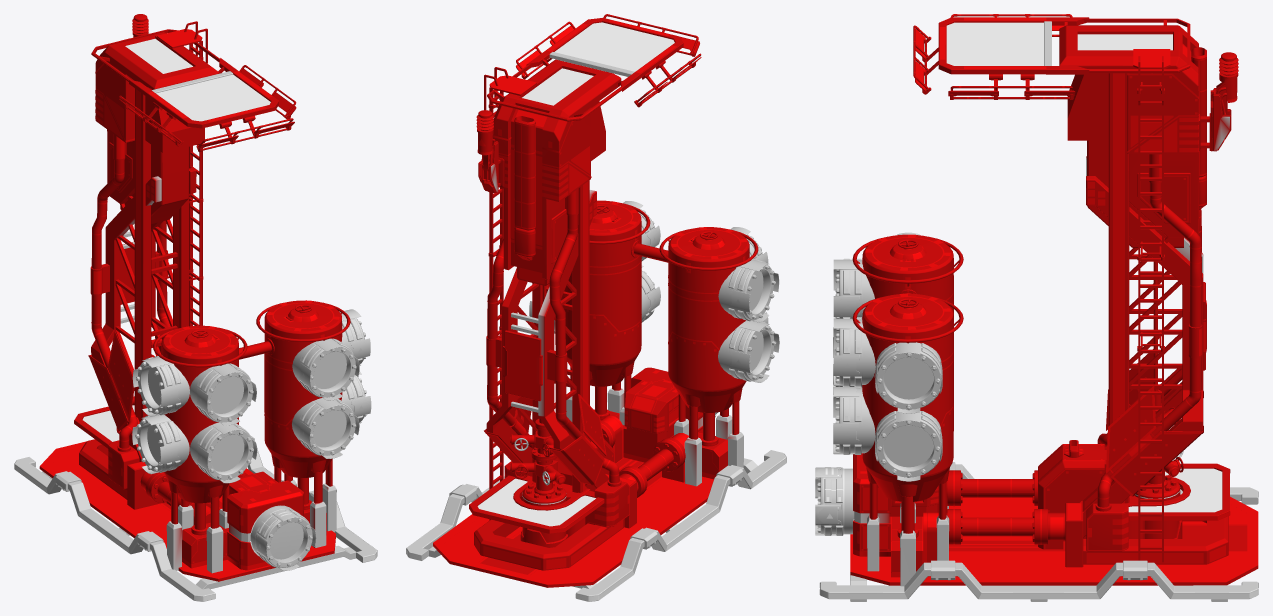
File: OilExtractor_extend1.fbx
3 views of the same model, side by side, from view 1: azimuth 30°, elevation 25°; view 2: azimuth 150°, elevation 25°; view 3: azimuth 270°, elevation 25° (orthographic). The views are drawn at different scales.
Visible parts, largest first — view 1: OilPump_static; view 2: OilPump_static; view 3: OilPump_static.
Boxes of the visible parts, x1,y1,x2,y2 form: OilPump_static: [14, 14, 377, 601]; OilPump_static: [406, 14, 786, 601]; OilPump_static: [815, 14, 1258, 601].
Bounding box in the file's own units: 848 × 1717 × 1317.
